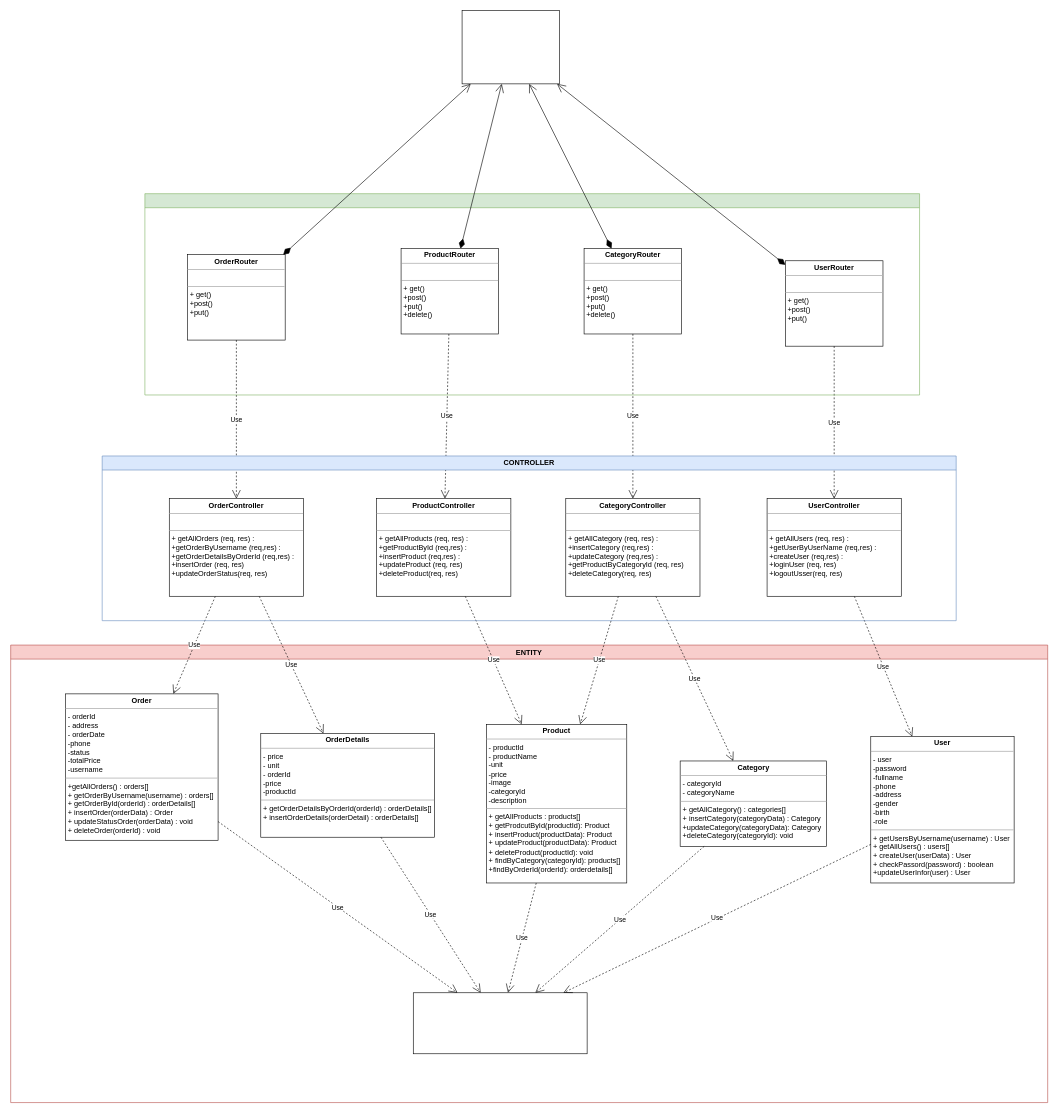
Some shapes in this 1058 by 1113 pixel diagram are drawn without their labels. Each missing label, with the centre of its shape:
BOUNDARY: point (532, 294)
connectToDB + MongoClient.connect(): point (500, 1023)
router + use() + all(): point (510, 47)
